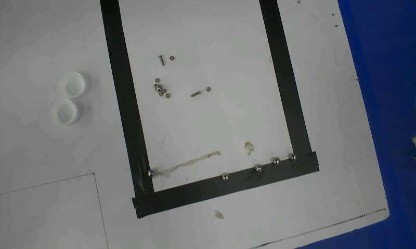ironball: (254, 164, 262, 173), (290, 152, 297, 161), (221, 173, 228, 181), (273, 157, 279, 165), (147, 169, 153, 177), (156, 86, 162, 91)
